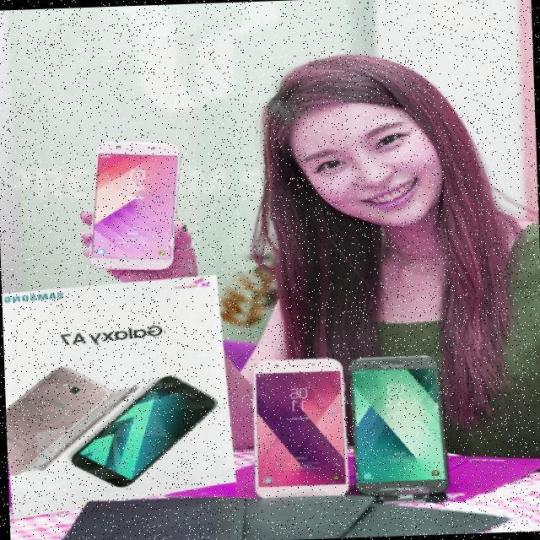phone: (353, 357, 451, 499), (89, 136, 183, 276), (254, 362, 346, 497)
